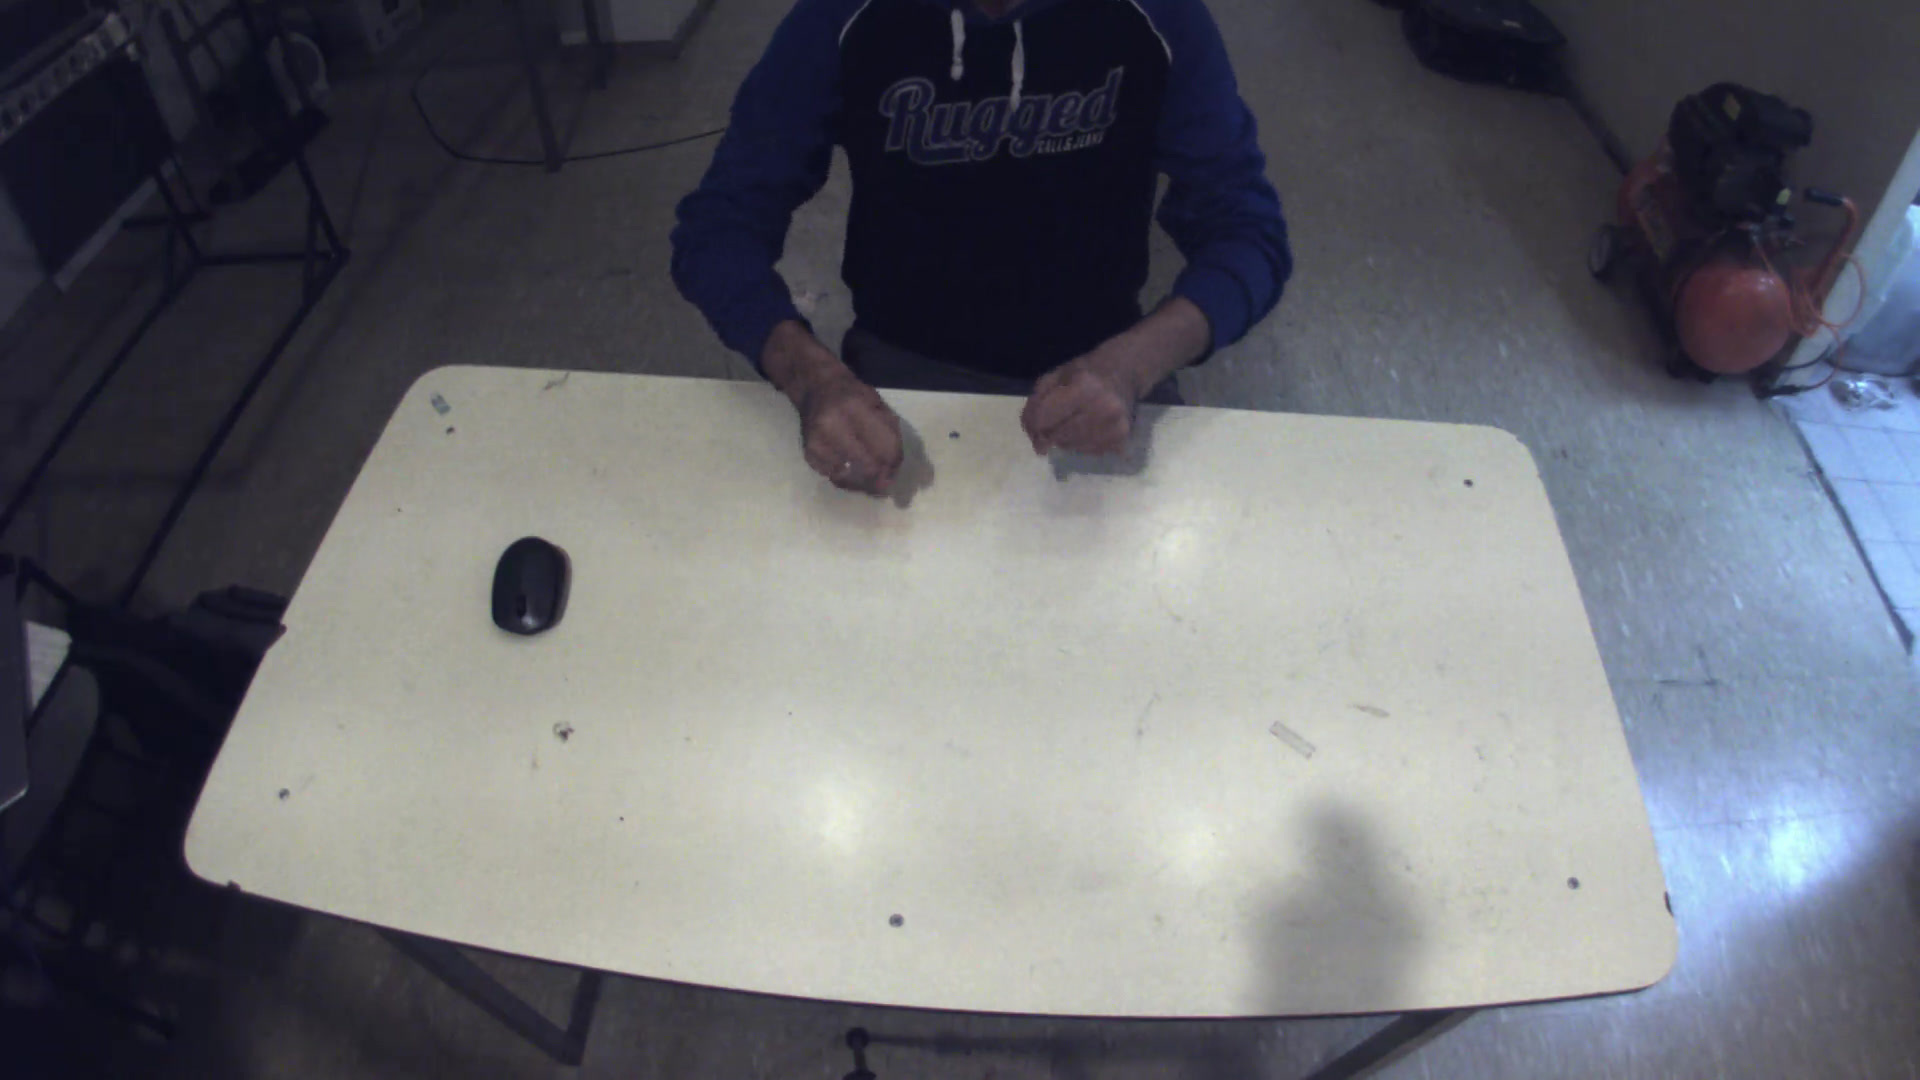hand: (761, 330, 934, 506), (1011, 342, 1154, 463)
